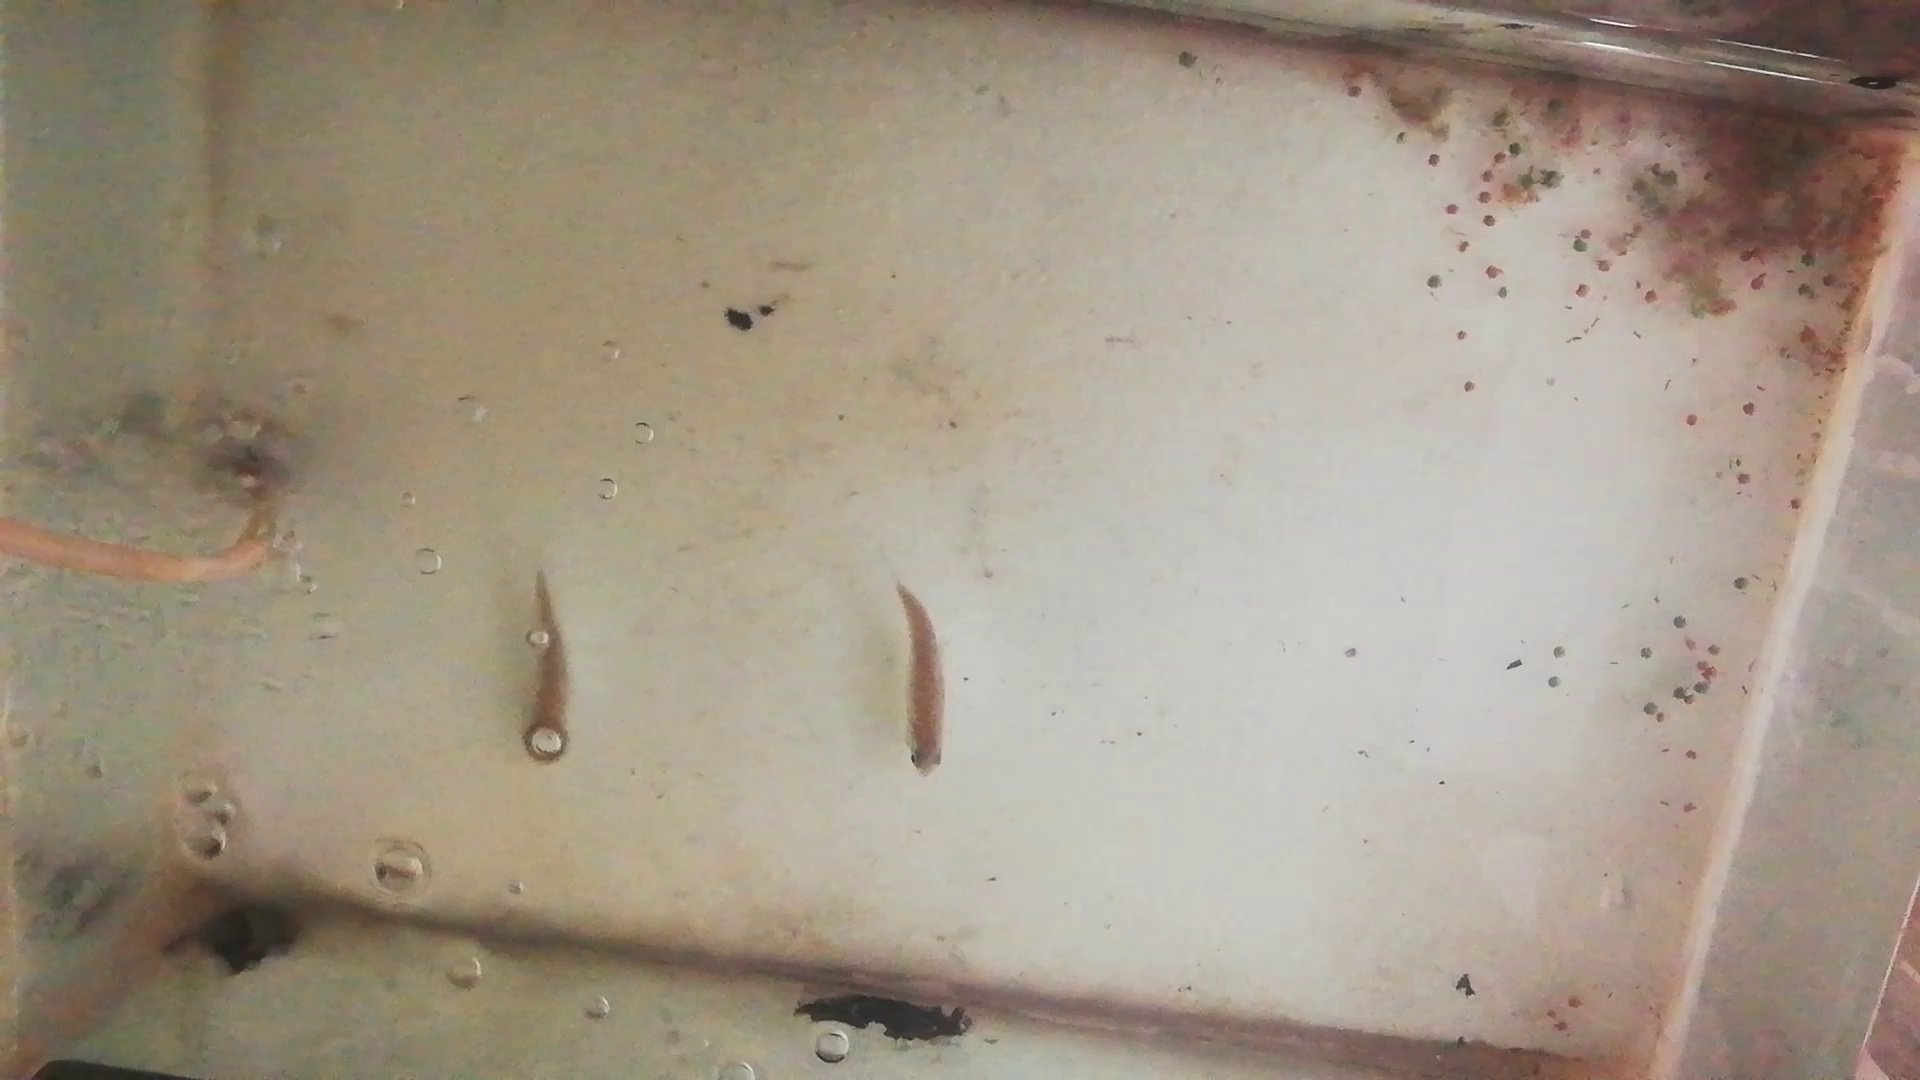fish: (522, 572, 576, 765), (897, 585, 948, 785)
